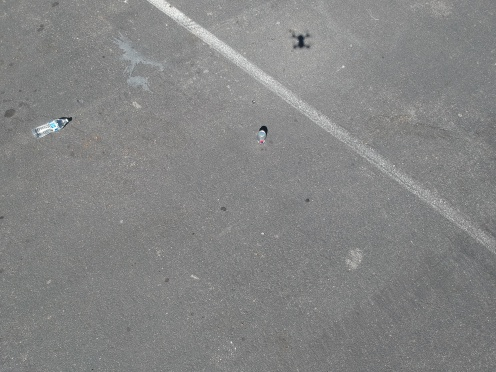bottle: (27, 116, 74, 139)
can: (251, 125, 271, 147)
